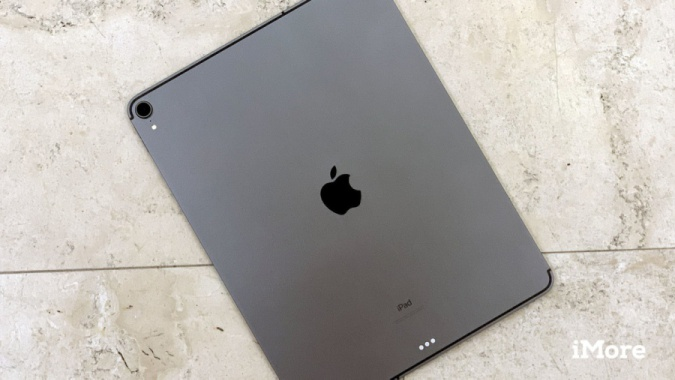apple: (318, 152, 368, 221)
